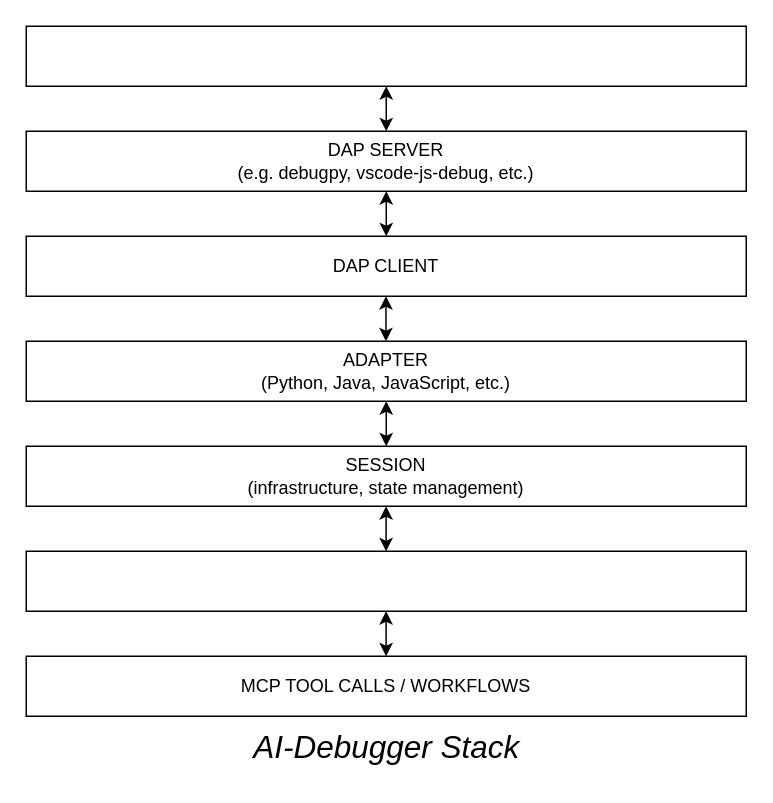
This 773x803 diagram has some shape labels left out. Here are the shapes that lost their labels. From the top down, the centre of each, then its label:
At point (385, 55): "DEBUGGEE PROCESS".
At point (385, 580): "SERVICE (debugging operations)".
